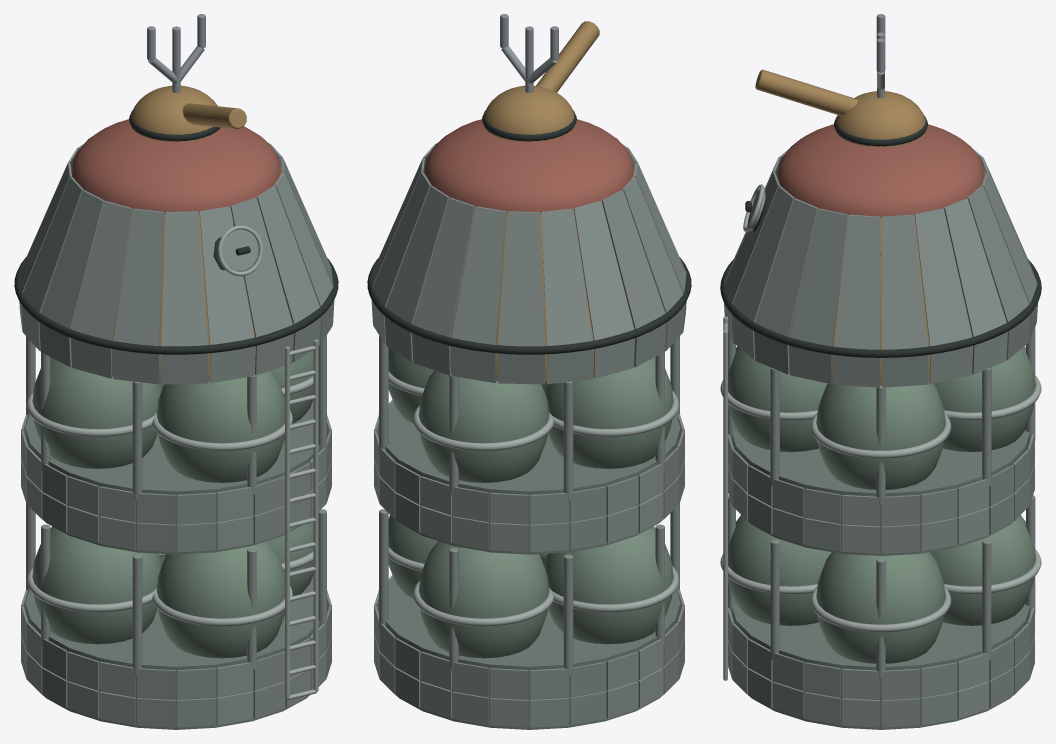
The picture shows the model from 3 angles, left to right: view 1: azimuth 30°, elevation 25°; view 2: azimuth 150°, elevation 25°; view 3: azimuth 270°, elevation 25°; orthographic projection.
Parts seen in each view (by area): view 1: Individual storage hood panels, Storage vessel structural belt, Storage vessel structural belt.001, Storage hood cap, Exposed storage bulb.003, Exposed storage bulb.007, Exposed storage bulb.002, Exposed storage bulb.006, Storage belt, Storage belt.001, Hood service gasket, Defensive head cupola (+24 smaller); view 2: Individual storage hood panels, Storage vessel structural belt, Storage vessel structural belt.001, Storage hood cap, Exposed storage bulb.001, Exposed storage bulb.005, Exposed storage bulb.002, Exposed storage bulb.006, Storage belt, Storage belt.001, Defensive head cupola, Hood service gasket (+20 smaller); view 3: Individual storage hood panels, Storage vessel structural belt.001, Storage vessel structural belt, Storage hood cap, Exposed storage bulb, Exposed storage bulb.004, Storage belt, Storage belt.001, Exposed storage bulb.001, Exposed storage bulb.003, Exposed storage bulb.005, Exposed storage bulb.007 (+19 smaller).
Part boxes in pixels (x1,y1,x2,y2): Individual storage hood panels: (19,143,334,384); Storage vessel structural belt: (21,576,331,727); Storage vessel structural belt.001: (21,400,331,552); Storage hood cap: (72,119,280,213); Exposed storage bulb.003: (156,541,284,658); Exposed storage bulb.007: (156,370,284,482); Exposed storage bulb.002: (32,526,161,644); Exposed storage bulb.006: (32,357,161,468); Storage belt: (25,577,327,729); Storage belt.001: (25,402,327,554); Hood service gasket: (14,257,338,354); Defensive head cupola: (130,85,220,142); Individual storage hood panels: (371,143,686,384); Storage vessel structural belt: (374,575,684,727); Storage vessel structural belt.001: (374,400,684,552); Storage hood cap: (425,119,633,213); Exposed storage bulb.001: (418,541,549,658); Exposed storage bulb.005: (418,370,549,482); Exposed storage bulb.002: (544,526,673,644); Exposed storage bulb.006: (544,357,673,468); Storage belt: (378,577,680,729); Storage belt.001: (378,402,680,554); Defensive head cupola: (483,85,575,142); Hood service gasket: (367,257,691,354); Individual storage hood panels: (724,149,1037,387); Storage vessel structural belt.001: (728,434,1034,553); Storage vessel structural belt: (728,607,1034,727); Storage hood cap: (777,124,984,218); Exposed storage bulb: (816,552,945,663); Exposed storage bulb.004: (816,382,945,489); Storage belt: (732,603,1029,729); Storage belt.001: (732,429,1029,555); Exposed storage bulb.001: (930,515,1035,625); Exposed storage bulb.003: (728,515,831,625); Exposed storage bulb.005: (934,346,1035,451); Exposed storage bulb.007: (728,346,827,451).
Size of the model in its own units: 1.68 by 3.68 by 1.68.
